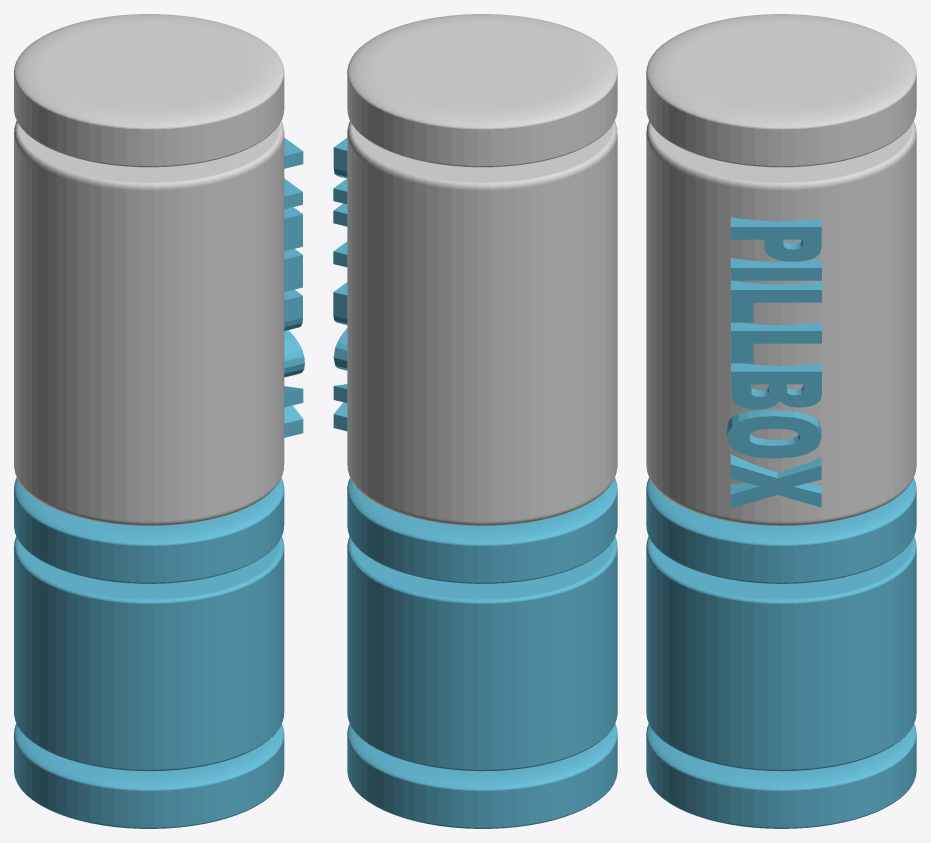
File: bottle-blue-white.glb
3 renders of one model, left to right at view 1: azimuth 30°, elevation 25°; view 2: azimuth 150°, elevation 25°; view 3: azimuth 270°, elevation 25°, orthographic.
Parts seen in each view (by area): view 1: Mesh_Mesh_head_geo.001_lambert2SG.001; view 2: Mesh_Mesh_head_geo.001_lambert2SG.001; view 3: Mesh_Mesh_head_geo.001_lambert2SG.001.
Boxes of the visible parts, left/top/right/bottom form: Mesh_Mesh_head_geo.001_lambert2SG.001: left=14, top=14, right=304, bottom=828; Mesh_Mesh_head_geo.001_lambert2SG.001: left=333, top=14, right=617, bottom=828; Mesh_Mesh_head_geo.001_lambert2SG.001: left=646, top=14, right=916, bottom=828.
Size of the model in its own units: 21 by 58 by 20.
